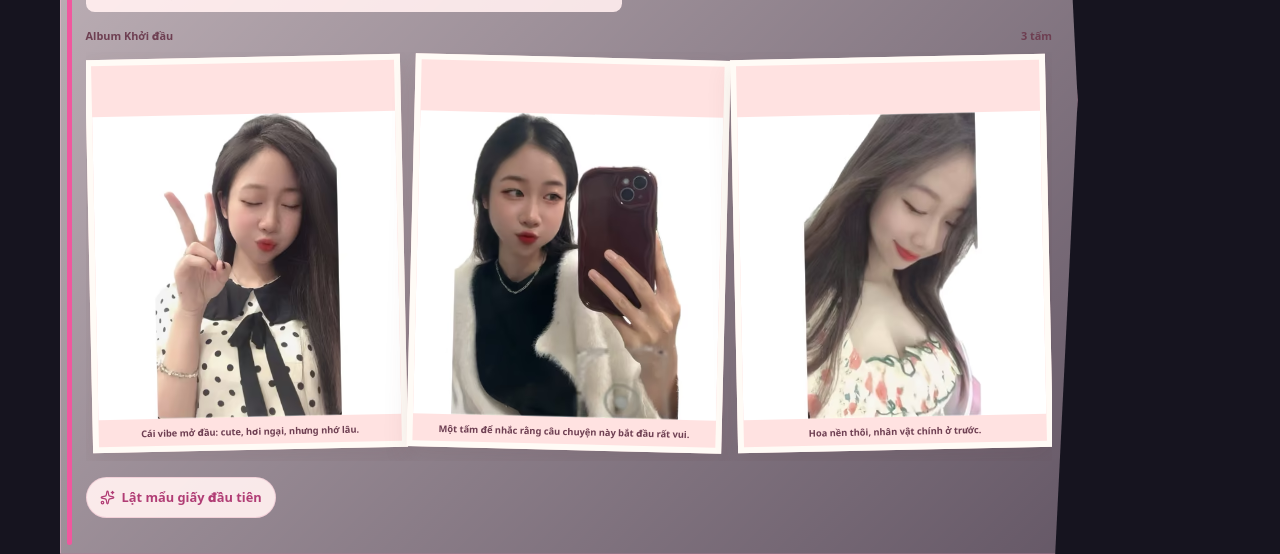
Story scrollytelling rebuild › reveals secret notes from story steps
(page scrolled)
Click the button with aria-label "Mở tin nhắn bí mật" at (181, 498), box x1=86 y1=477 x2=276 y2=518
(page scrolled)
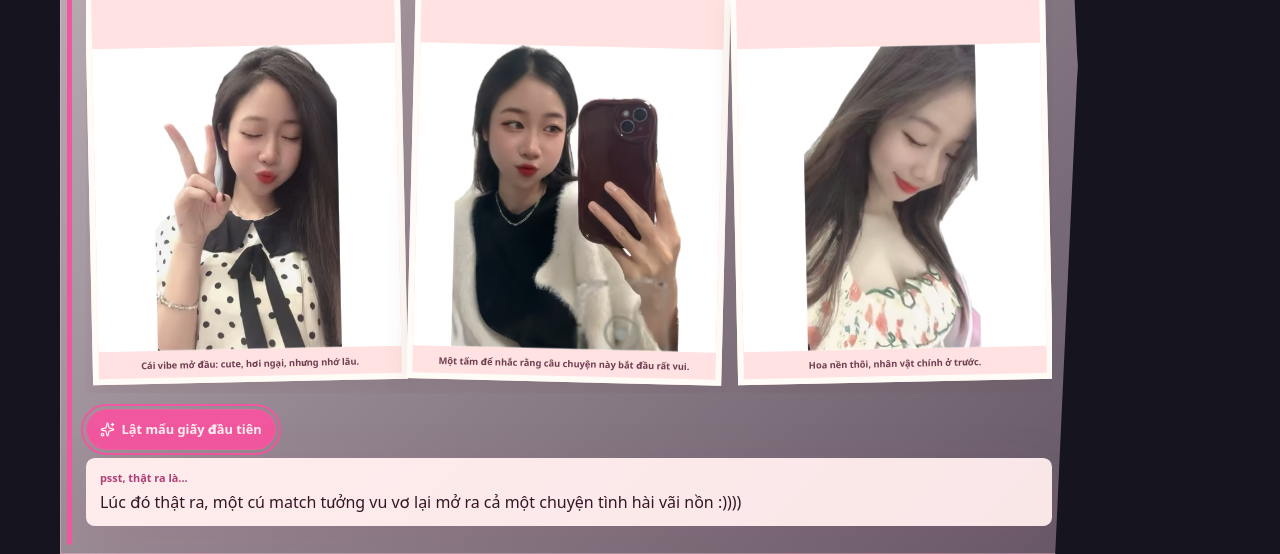
Result: the text "một cú match tưởng vu vơ" is shown at x1=100 y1=491 x2=741 y2=513
